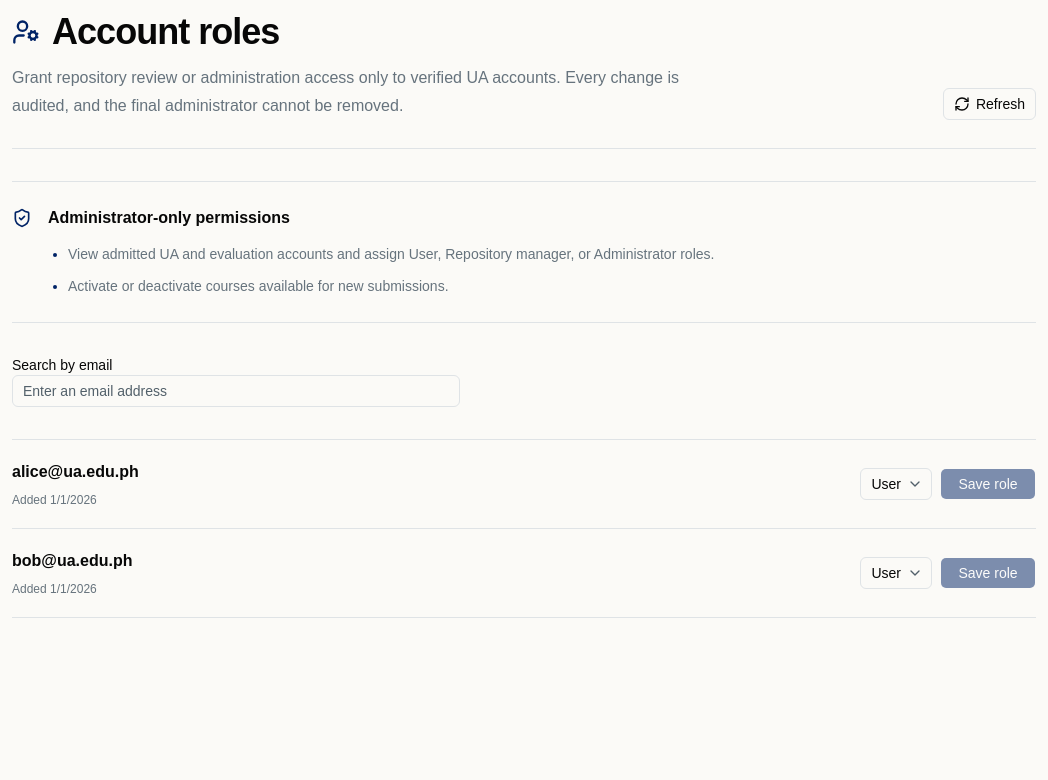
Scenario: account role administration › filters accounts by email without changing their roles
This screenshot has width=1048, height=780.
Check: the text "alice@ua.edu.ph" is shown, box [12,463,139,480]
Type "BOB@" into the search field labelled "Search by email".
click(236, 391); type("BOB@")  # box [12,375,460,407]
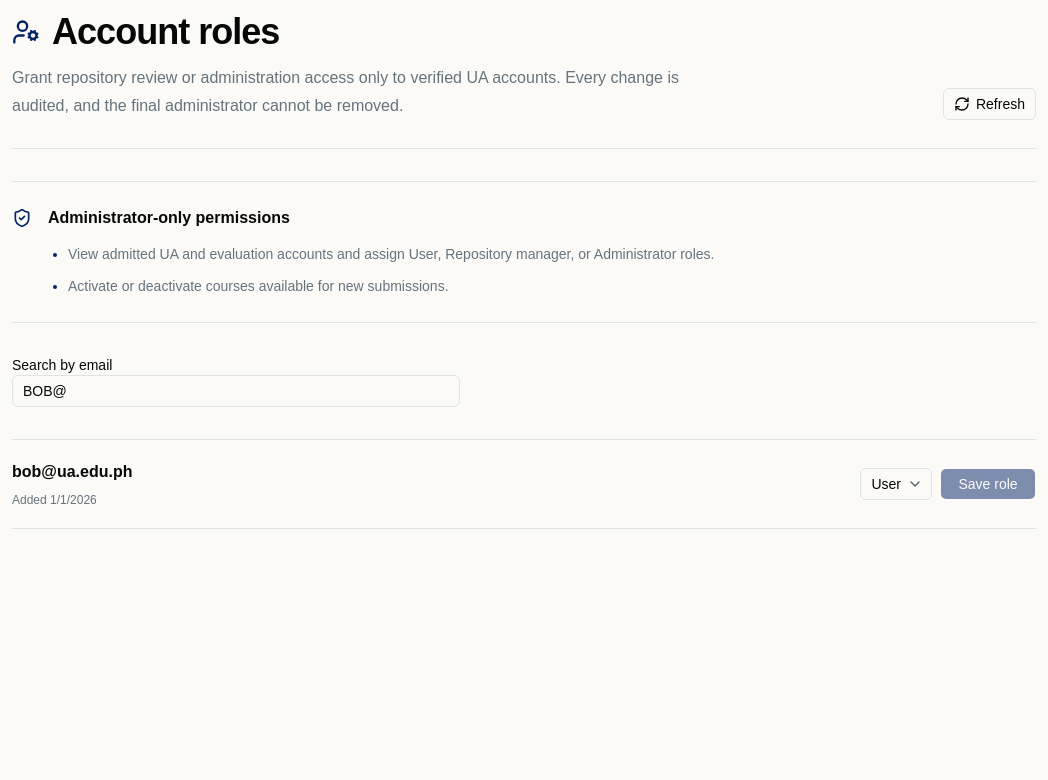
Check: the text "bob@ua.edu.ph" is shown, box [12,463,132,480]
Check: the text "alice@ua.edu.ph" is gone
Replace the text in the search field labelled "Search by email" with "missing" at (236, 391), box [12,375,460,407]
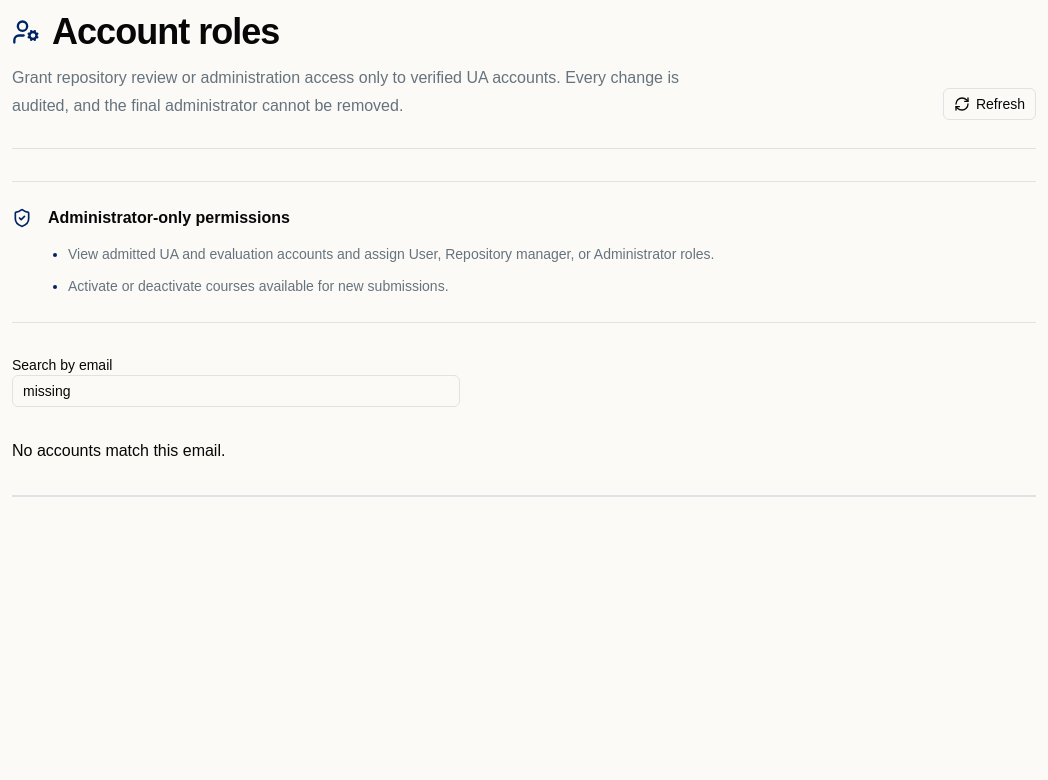
Check: the text "No accounts match this email." is shown, box [12,442,225,459]
